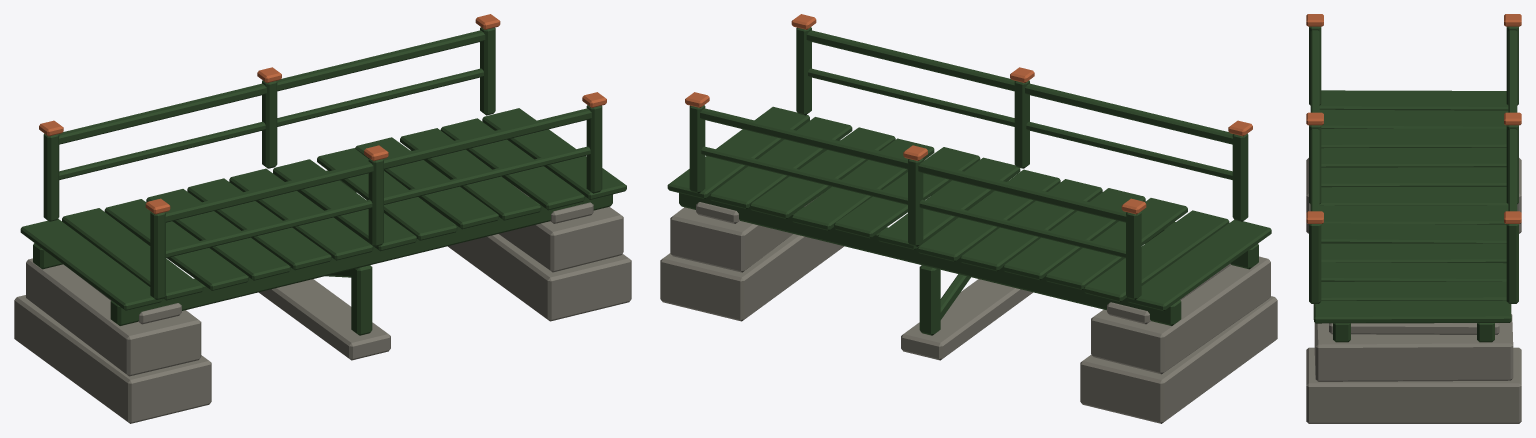
Rendered from bridge_segment.obj.
3 renders of one model, left to right at view 1: azimuth 30°, elevation 25°; view 2: azimuth 150°, elevation 25°; view 3: azimuth 270°, elevation 25°, orthographic. The views are drawn at different scales.
Visible parts, largest first — view 1: bridge_segment; view 2: bridge_segment; view 3: bridge_segment.
Part boxes in pixels (x1,y1,x2,y2): bridge_segment: (14,14,631,423); bridge_segment: (660,14,1277,423); bridge_segment: (1306,14,1521,423).
Size of the model in its own units: 6 by 2.4 by 2.4.
